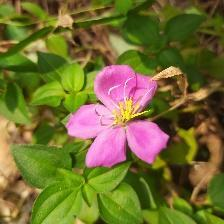malabar melastome: (68, 64, 173, 170)
